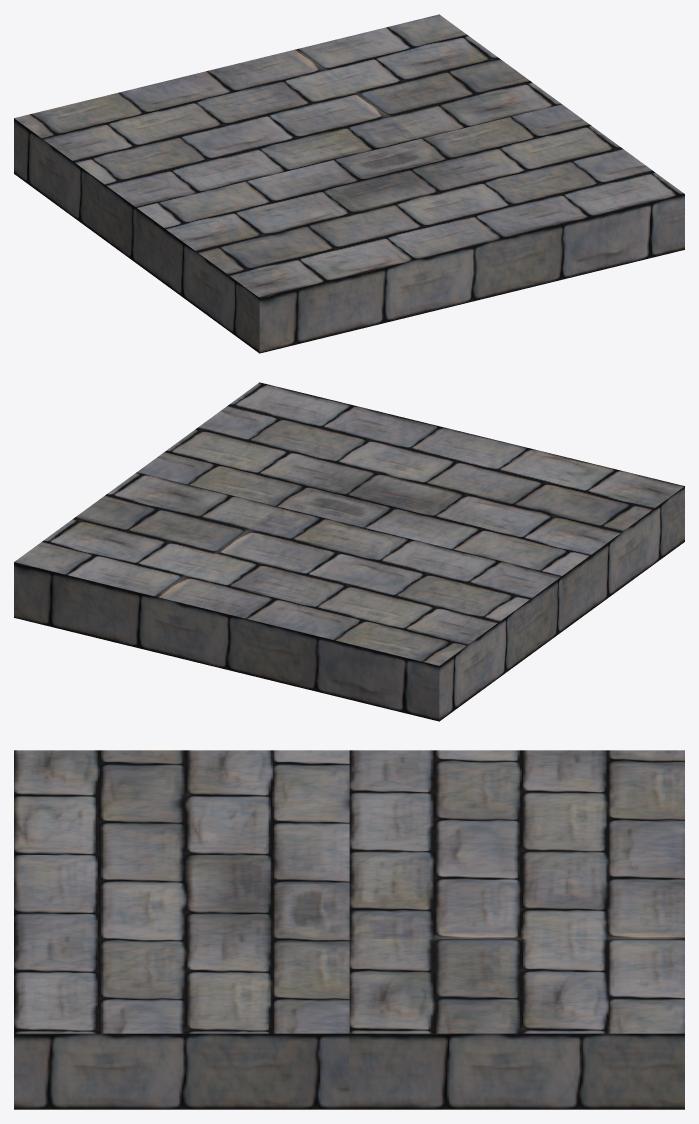
Rendered from floor_01.fbx.
The picture shows the model from 3 angles, top to bottom: view 1: azimuth 30°, elevation 25°; view 2: azimuth 150°, elevation 25°; view 3: azimuth 270°, elevation 25°; orthographic projection. The views are drawn at different scales.
Parts seen in each view (by area): view 1: floor_01; view 2: floor_01; view 3: floor_01.
Boxes of the visible parts, <box> form: floor_01: <box>14,14,684,353</box>; floor_01: <box>14,382,684,721</box>; floor_01: <box>14,750,684,1109</box>.
Bounding box in the file's own units: 800 × 100 × 800.
